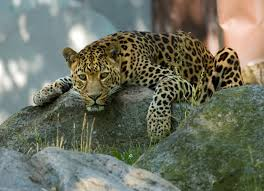amur_leopard: (27, 18, 248, 131)
